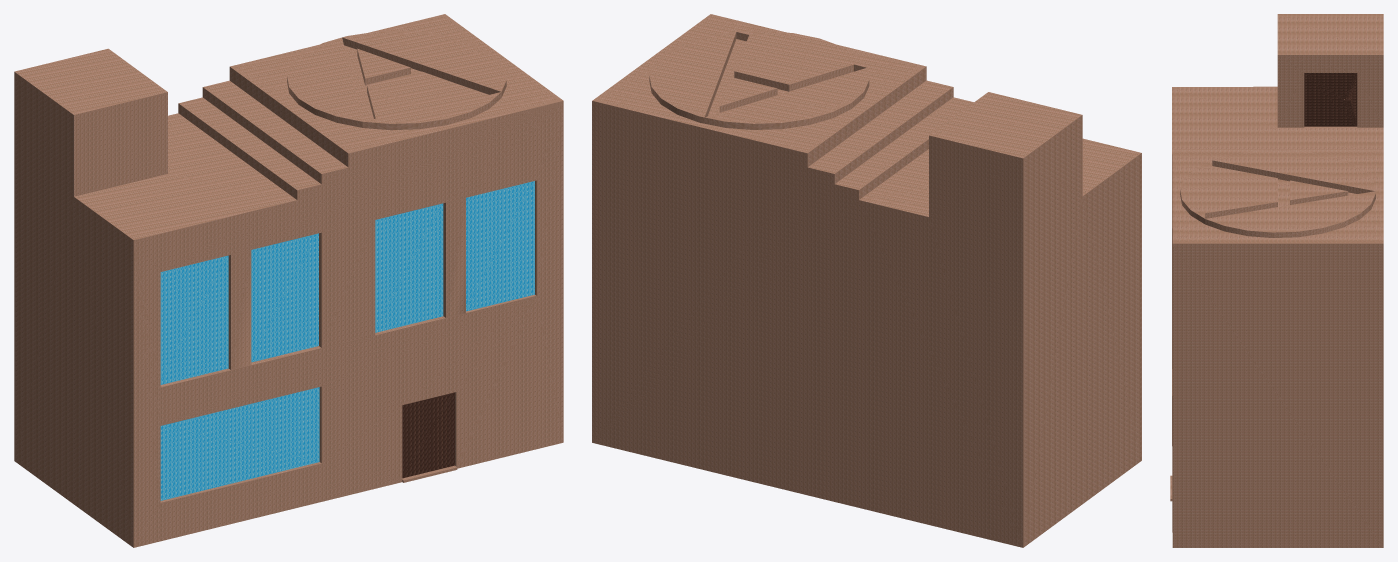
File: house.obj
3 renders of one model, left to right at view 1: azimuth 30°, elevation 25°; view 2: azimuth 150°, elevation 25°; view 3: azimuth 270°, elevation 25°, orthographic. The views are drawn at different scales.
Visible parts, largest first — view 1: walls_house.001, windows_house.002, doors_house.003; view 2: walls_house.001; view 3: walls_house.001, doors_house.003.
Part boxes in pixels (x1,y1,x2,y2): walls_house.001: (14,14,563,547); windows_house.002: (160,181,534,500); doors_house.003: (402,392,454,478); walls_house.001: (592,14,1141,547); walls_house.001: (1170,14,1383,547); doors_house.003: (1304,73,1357,126).
Bounding box in the file's own units: 543 × 469 × 261.
